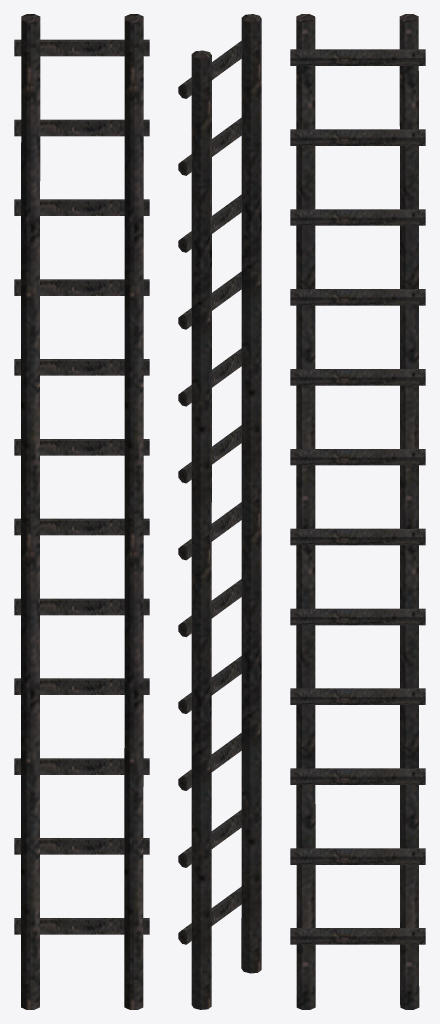
Rendered from Training_Ladder3.fbx.
3 renders of one model, left to right at view 1: azimuth 90°, elevation 25°; view 2: azimuth 150°, elevation 25°; view 3: azimuth 270°, elevation 25°, orthographic. The views are drawn at different scales.
Visible parts, largest first — view 1: Drevo; view 2: Drevo; view 3: Drevo.
Boxes of the visible parts, x1=… form: Drevo: x1=14, y1=14, x2=149, y2=1009; Drevo: x1=178, y1=14, x2=261, y2=1009; Drevo: x1=290, y1=14, x2=425, y2=1009.
Bounding box in the file's own units: 9.76 × 372 × 46.25.
